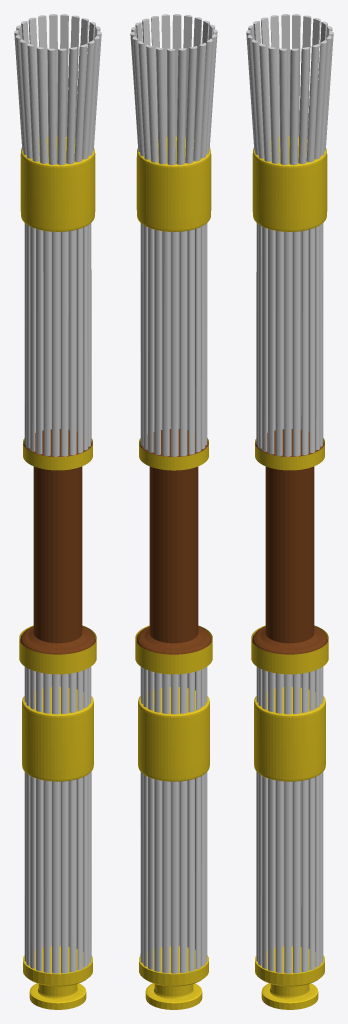
Rendered from torch.fbx.
3 renders of one model, left to right at view 1: azimuth 90°, elevation 25°; view 2: azimuth 210°, elevation 25°; view 3: azimuth 270°, elevation 25°, orthographic.
Parts seen in each view (by area): view 1: Circle, Circle.001, Circle.002, Cylinder.001, Cylinder.002, Cylinder.011, Cylinder.008, Cylinder.005, Cylinder.004, Cylinder.010, Cylinder.007, Cylinder.006 (+1 smaller); view 2: Circle, Circle.001, Circle.002, Cylinder.001, Cylinder.002, Cylinder.011, Cylinder.008, Cylinder.005, Cylinder.004, Cylinder.010, Cylinder.007, Cylinder.006 (+1 smaller); view 3: Circle, Circle.001, Circle.002, Cylinder.001, Cylinder.002, Cylinder.011, Cylinder.008, Cylinder.005, Cylinder.004, Cylinder.010, Cylinder.007, Cylinder.006 (+1 smaller).
Part boxes in pixels (left/top/right/bottom): Circle: left=24, top=667, right=91, bottom=973; Circle.001: left=24, top=223, right=91, bottom=456; Circle.002: left=14, top=14, right=101, bottom=165; Cylinder.001: left=33, top=466, right=82, bottom=643; Cylinder.002: left=20, top=137, right=95, bottom=231; Cylinder.011: left=22, top=687, right=93, bottom=781; Cylinder.008: left=19, top=625, right=96, bottom=674; Cylinder.005: left=23, top=946, right=92, bottom=986; Cylinder.004: left=20, top=626, right=95, bottom=654; Cylinder.010: left=23, top=438, right=92, bottom=470; Cylinder.007: left=29, top=983, right=86, bottom=1009; Cylinder.006: left=38, top=984, right=77, bottom=998; Circle: left=140, top=667, right=207, bottom=973; Circle.001: left=140, top=223, right=207, bottom=456; Circle.002: left=130, top=14, right=217, bottom=165; Cylinder.001: left=149, top=466, right=198, bottom=643; Cylinder.002: left=136, top=136, right=211, bottom=231; Cylinder.011: left=138, top=687, right=209, bottom=781; Cylinder.008: left=135, top=625, right=212, bottom=674; Cylinder.005: left=139, top=946, right=208, bottom=986; Cylinder.004: left=136, top=626, right=211, bottom=654; Cylinder.010: left=139, top=438, right=208, bottom=470; Cylinder.007: left=145, top=983, right=202, bottom=1009; Cylinder.006: left=154, top=984, right=193, bottom=998; Circle: left=256, top=667, right=323, bottom=973; Circle.001: left=256, top=223, right=323, bottom=456; Circle.002: left=246, top=14, right=333, bottom=165; Cylinder.001: left=265, top=466, right=314, bottom=643; Cylinder.002: left=252, top=136, right=327, bottom=231; Cylinder.011: left=254, top=687, right=325, bottom=781; Cylinder.008: left=251, top=625, right=328, bottom=674; Cylinder.005: left=255, top=946, right=324, bottom=986; Cylinder.004: left=252, top=626, right=327, bottom=654; Cylinder.010: left=255, top=438, right=324, bottom=470; Cylinder.007: left=261, top=983, right=318, bottom=1009; Cylinder.006: left=270, top=984, right=309, bottom=998.
Size of the model in its own units: 432 by 5300 by 435.
